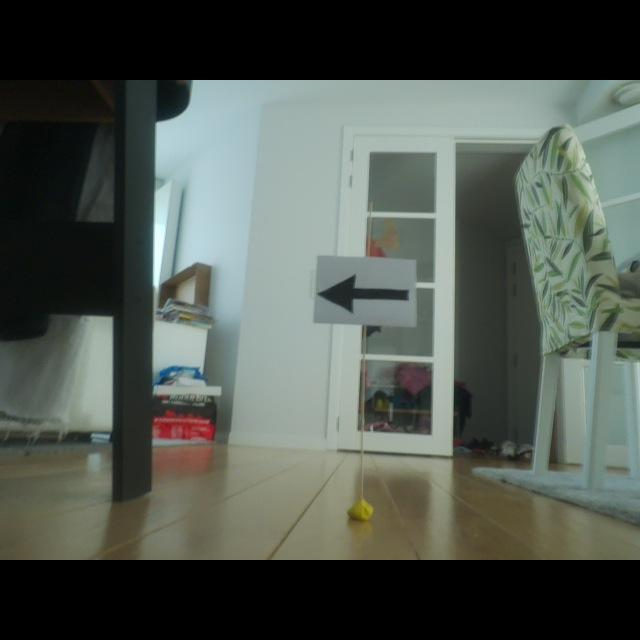balra_nyil: (318, 275, 408, 316)
